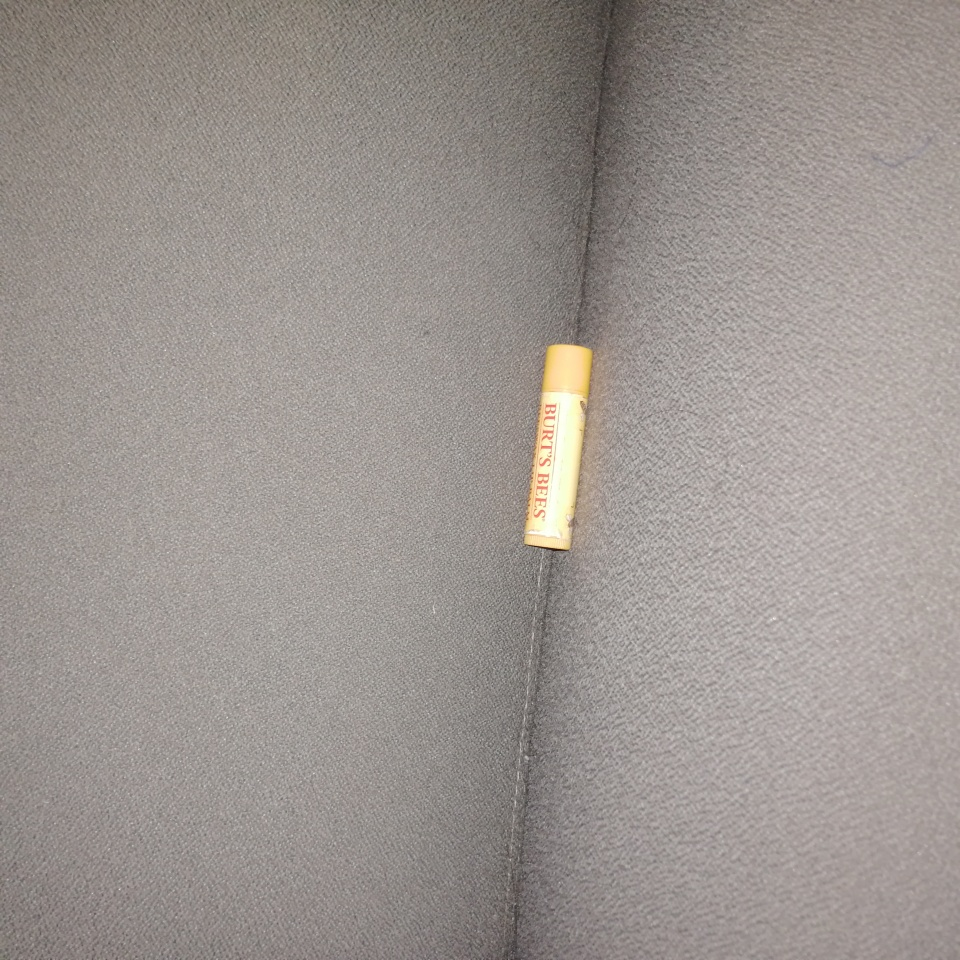chapstick: (518, 343, 597, 554)
